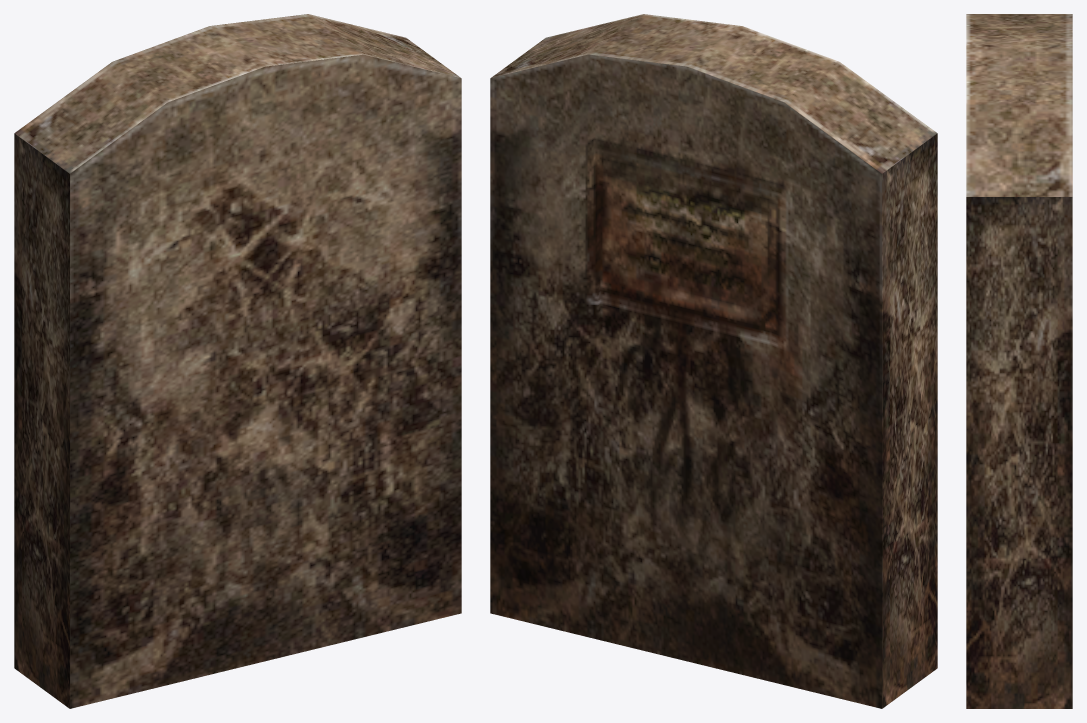
Rendered from cem_tomb1c.glb.
The picture shows the model from 3 angles, left to right: view 1: azimuth 30°, elevation 25°; view 2: azimuth 150°, elevation 25°; view 3: azimuth 270°, elevation 25°; orthographic projection. The views are drawn at different scales.
Visible parts, largest first — view 1: cem_tomb1c; view 2: cem_tomb1c; view 3: cem_tomb1c.
Part boxes in pixels (bbox=[...]): cem_tomb1c: bbox=[14, 14, 461, 708]; cem_tomb1c: bbox=[490, 14, 937, 708]; cem_tomb1c: bbox=[966, 14, 1072, 708].
Size of the model in its own units: 1.3 by 1.89 by 0.3192.
2 materials, 2 textured.
